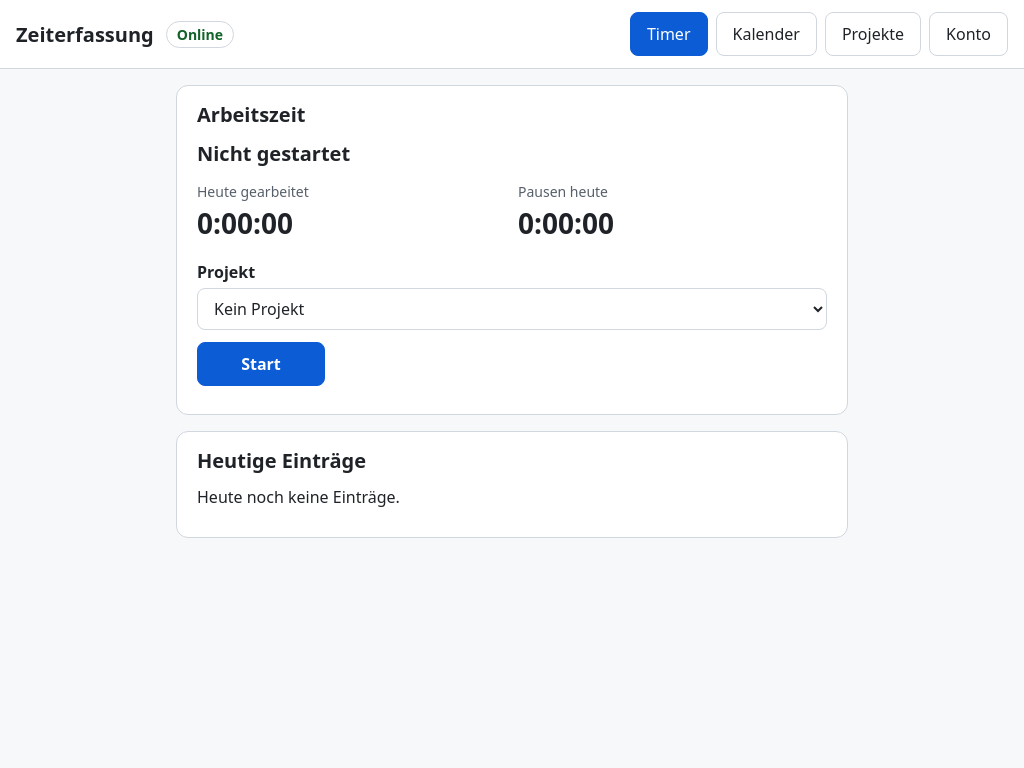
App: auth gate (edge cases 3, 4) › switches to AccountView when clicking "Konto"
This screenshot has width=1024, height=768.
Expected: the heading "Arbeitszeit" is shown, 197,101 -> 306,128
Click the button "Konto" at point(969, 34), box 929,12 -> 1008,56
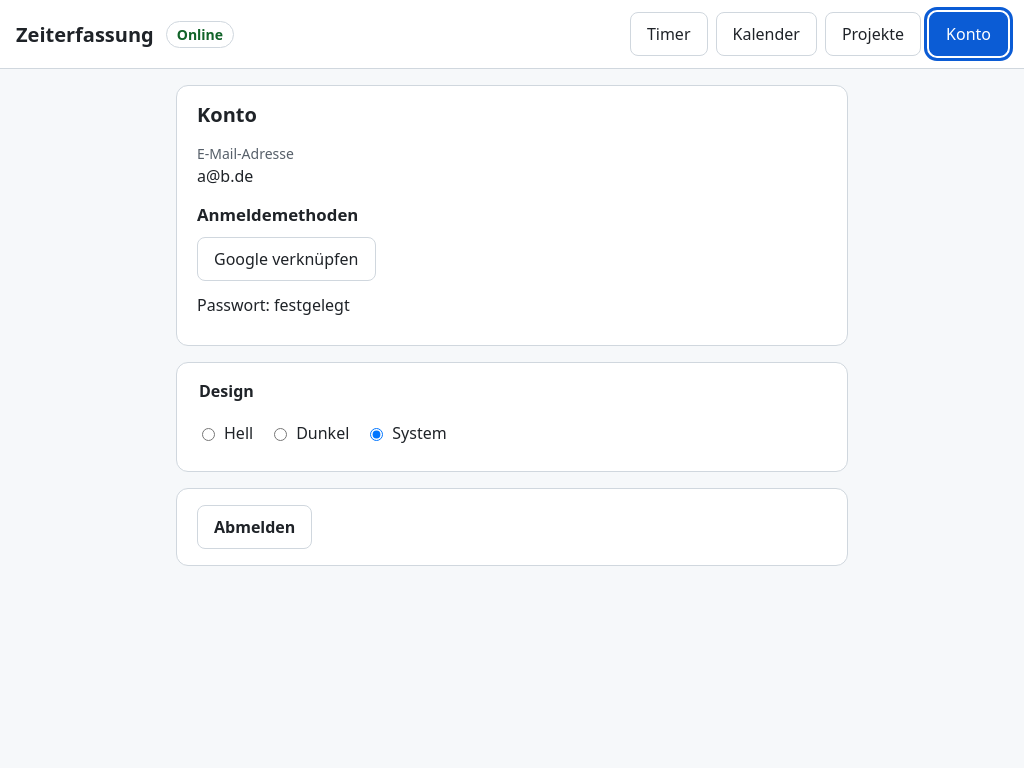
Result: the heading "Konto" is shown at 197,101 -> 257,128
